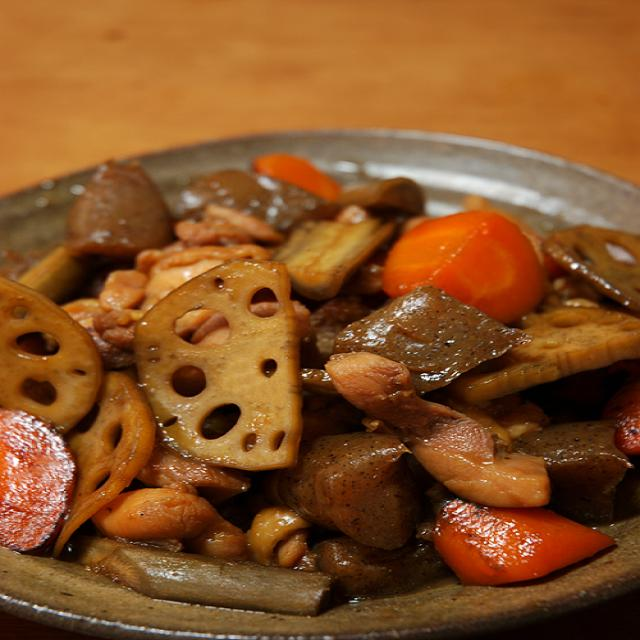鸡肉料理 含炸鸡: (0, 111, 640, 640)
